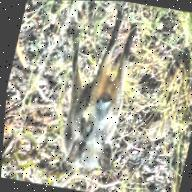boar: (41, 23, 150, 178)
